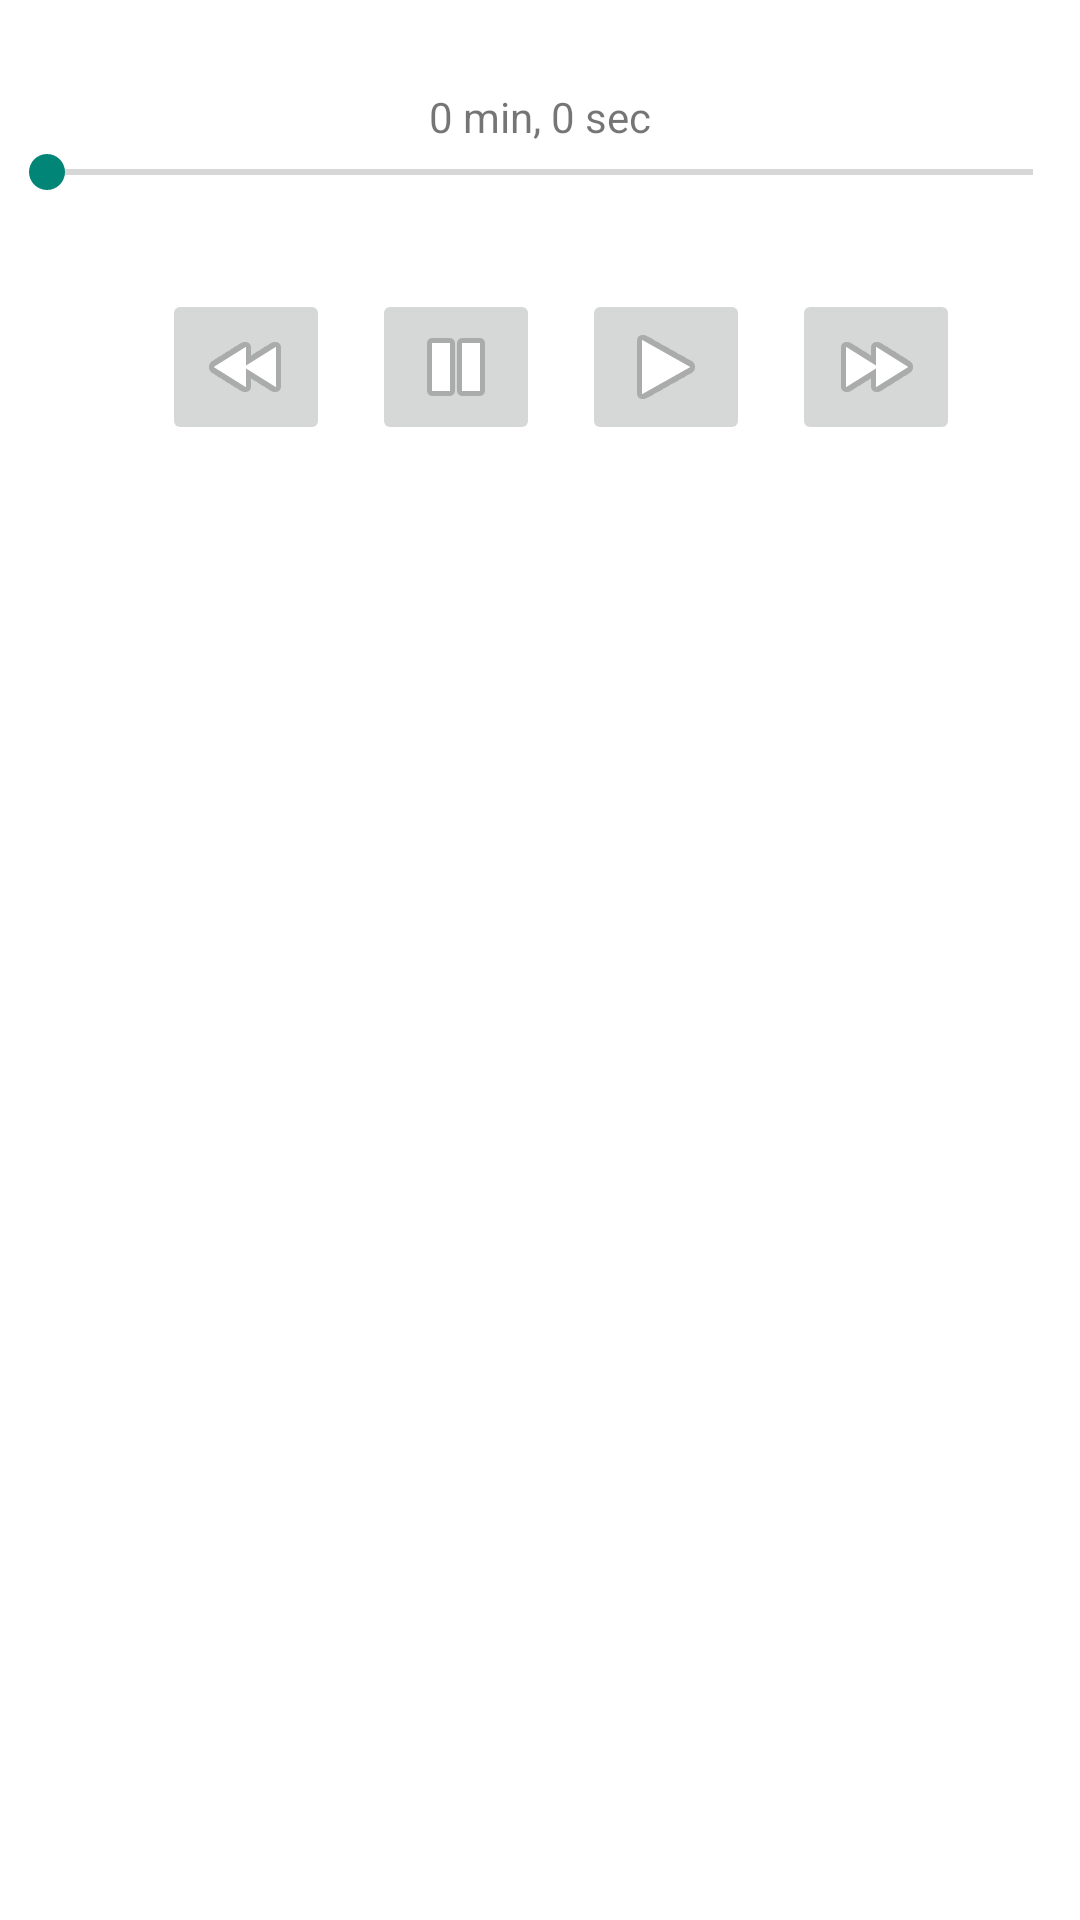

Screen size 1080 × 1920. Icon name, then its center in pixels as point (x, y):
pause: point (456, 367)
play: point (666, 367)
rew: point (246, 367)
